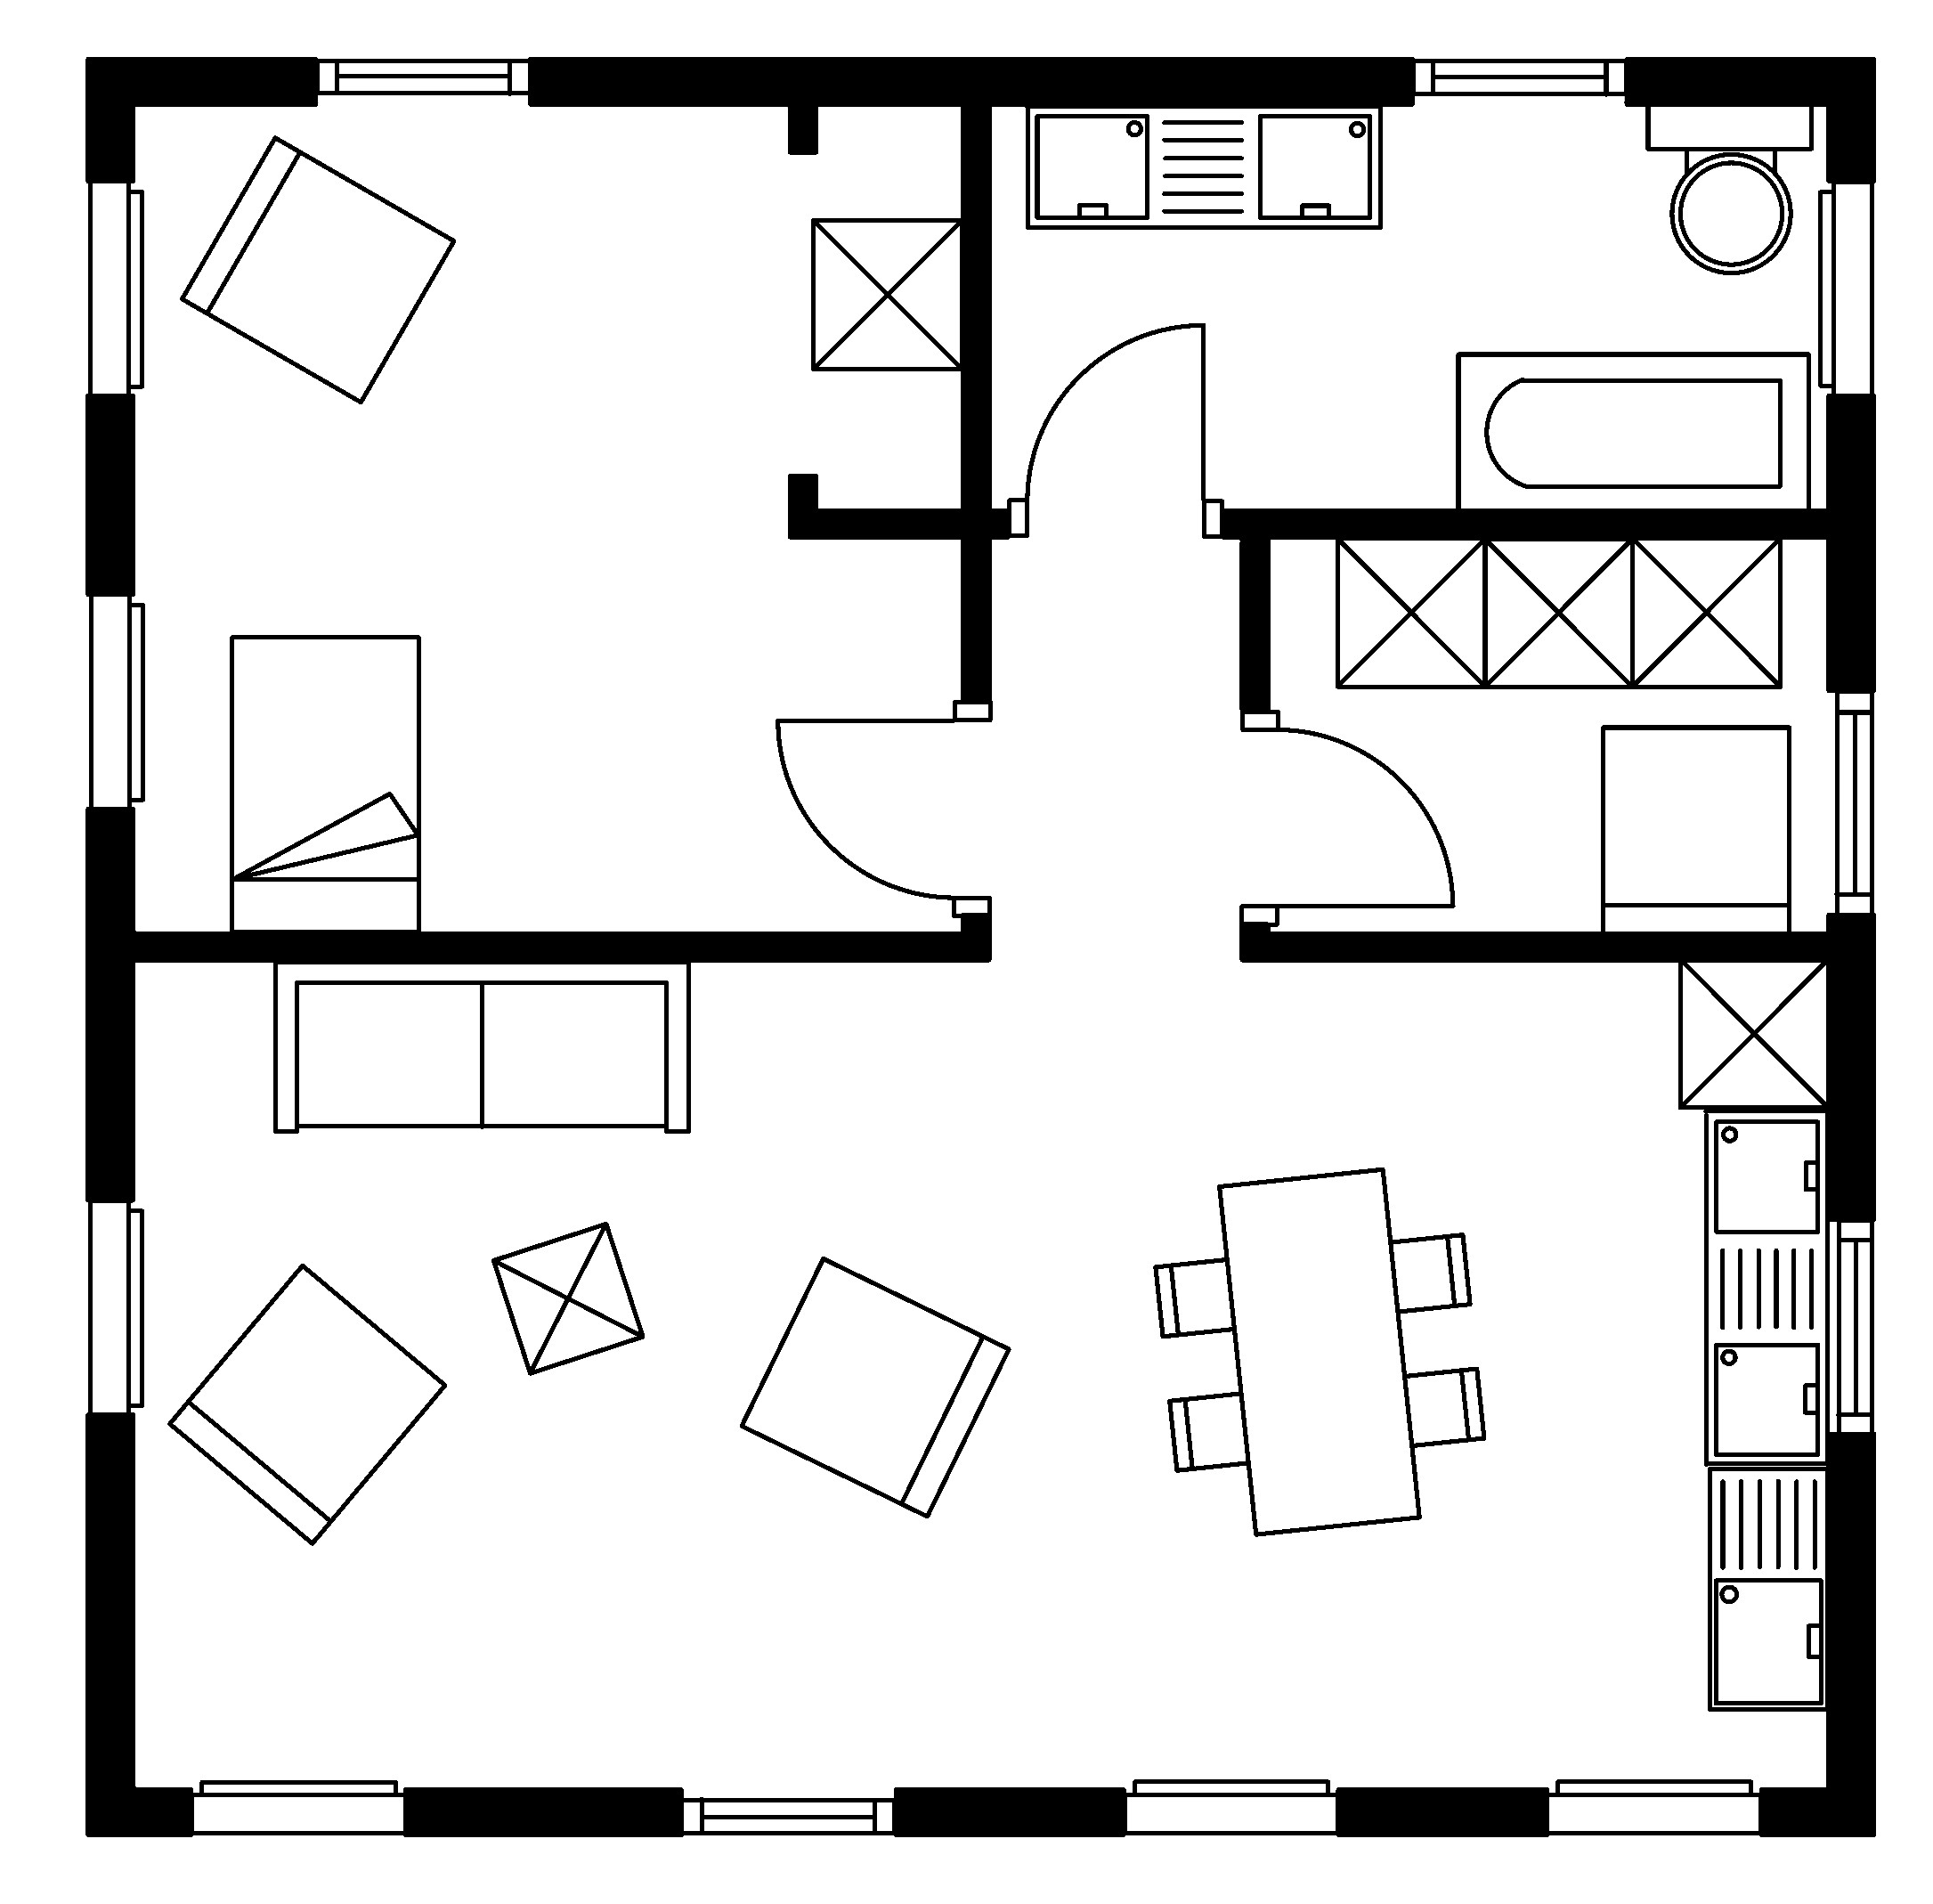bed: (227, 633, 422, 935)
coffee_table: (809, 216, 966, 371), (488, 1221, 645, 1376), (1480, 534, 1635, 689), (1628, 534, 1783, 689), (1333, 534, 1489, 689), (1675, 955, 1830, 1111)
dining_table: (1150, 1166, 1487, 1538)
large_sink: (1644, 101, 1814, 274)
large_sofa: (272, 959, 690, 1135)
sink: (1706, 1465, 1830, 1712)
small_sofa: (166, 1262, 448, 1547), (178, 134, 457, 405), (737, 1255, 1011, 1519), (1598, 724, 1792, 936)
tub: (1454, 350, 1811, 513)
twin_sink: (1023, 101, 1384, 230), (1701, 1107, 1830, 1468)
